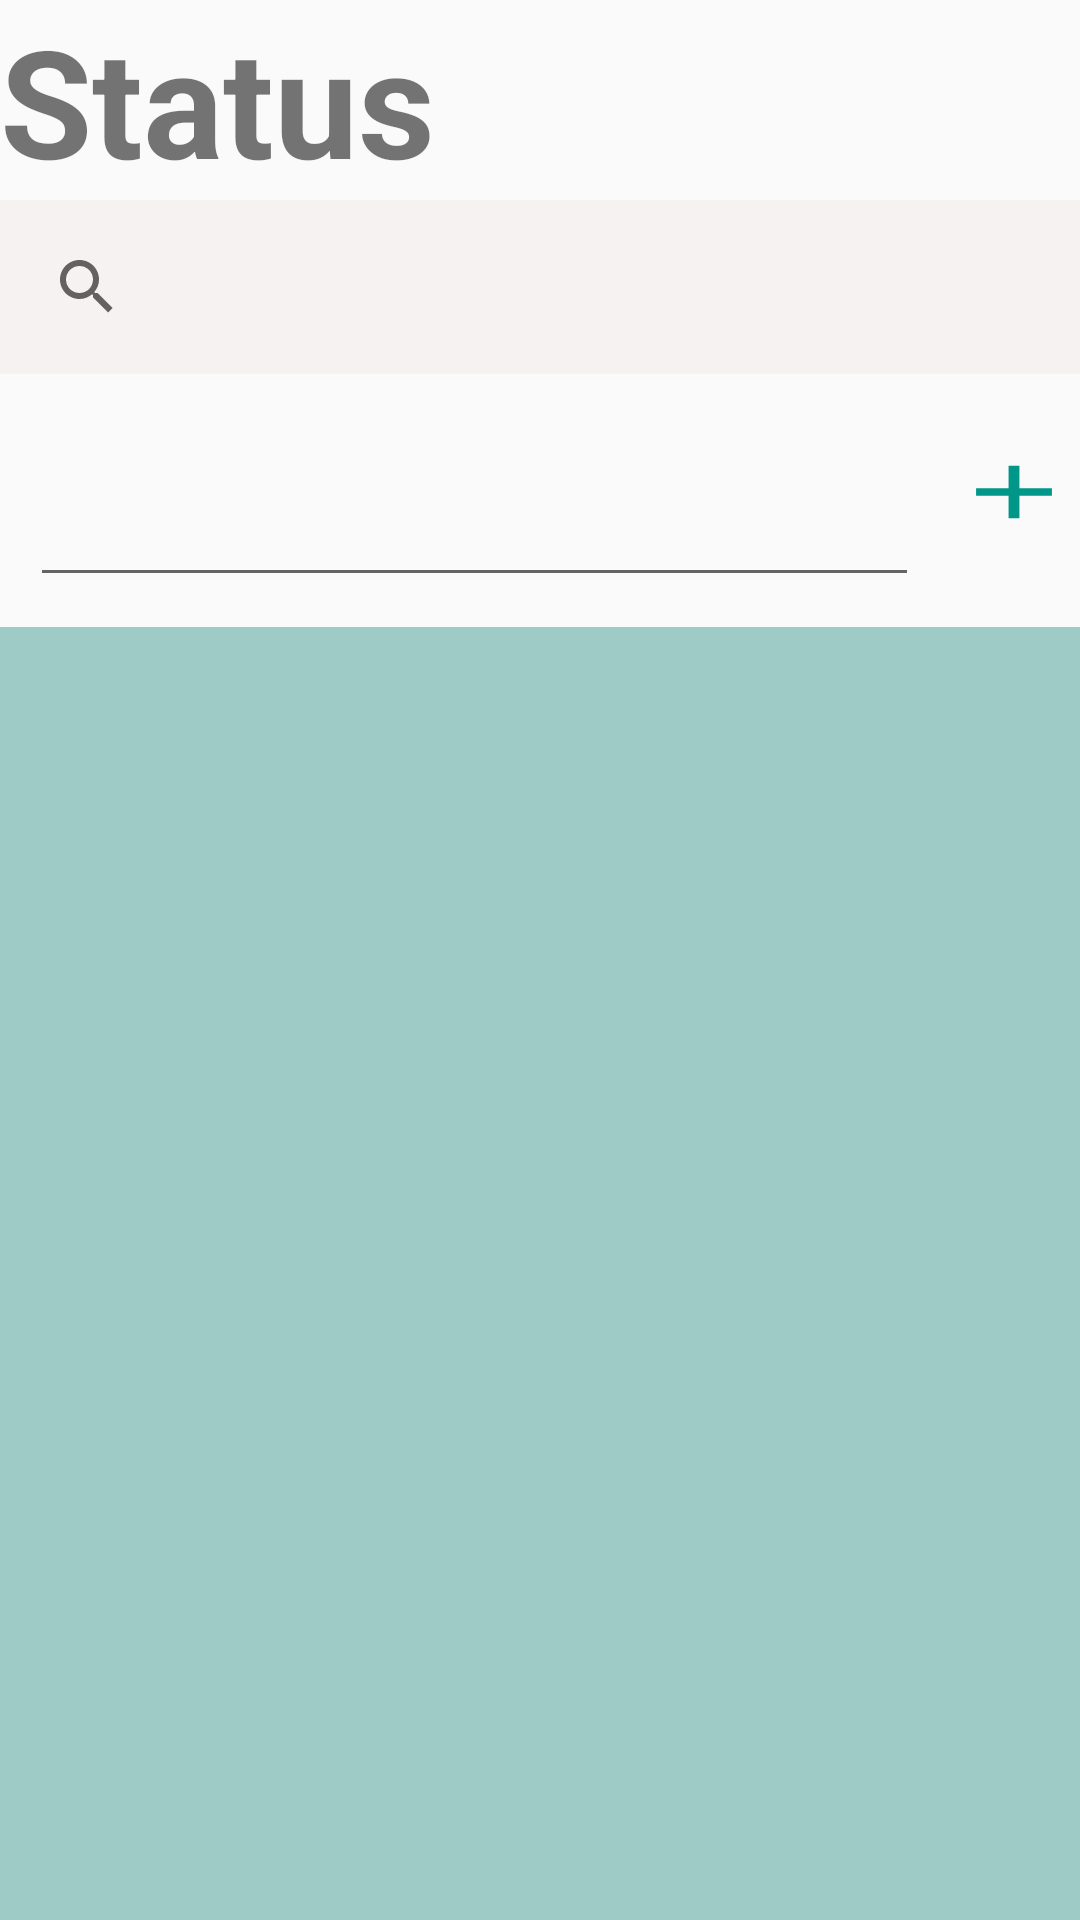

Locate icon controls on the screen. Image size 1080 x 1920, boxes as (x1, y1, x2, y2).
add: (976, 465, 1052, 519)
